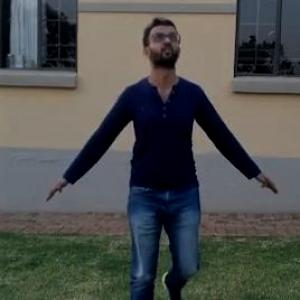land: (8, 2, 281, 299)
